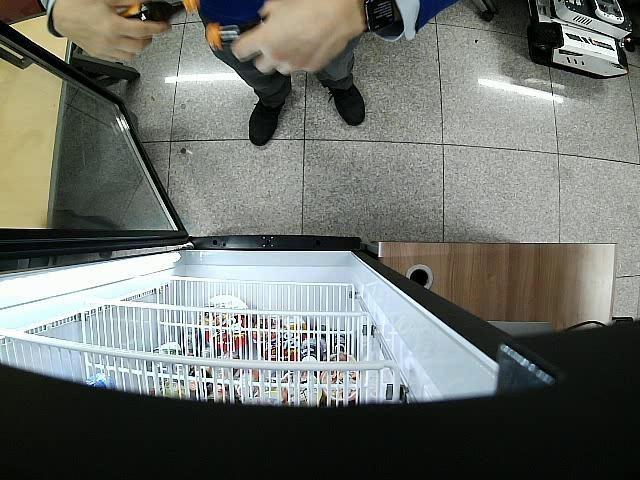17_vita500: (206, 16, 268, 55), (118, 0, 200, 24)
